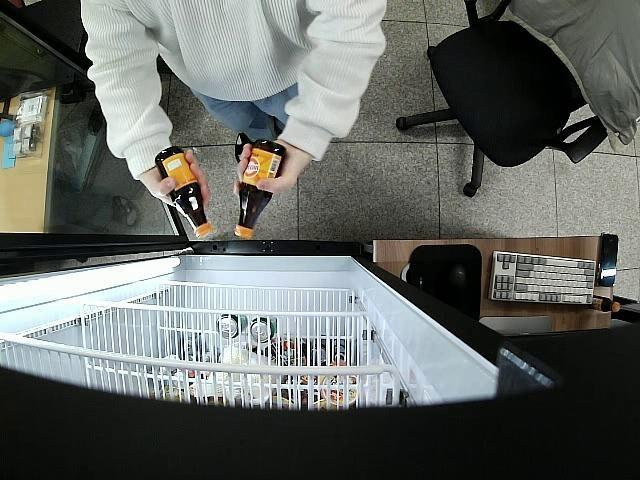17_vita500: (154, 145, 213, 238), (234, 138, 285, 240)
